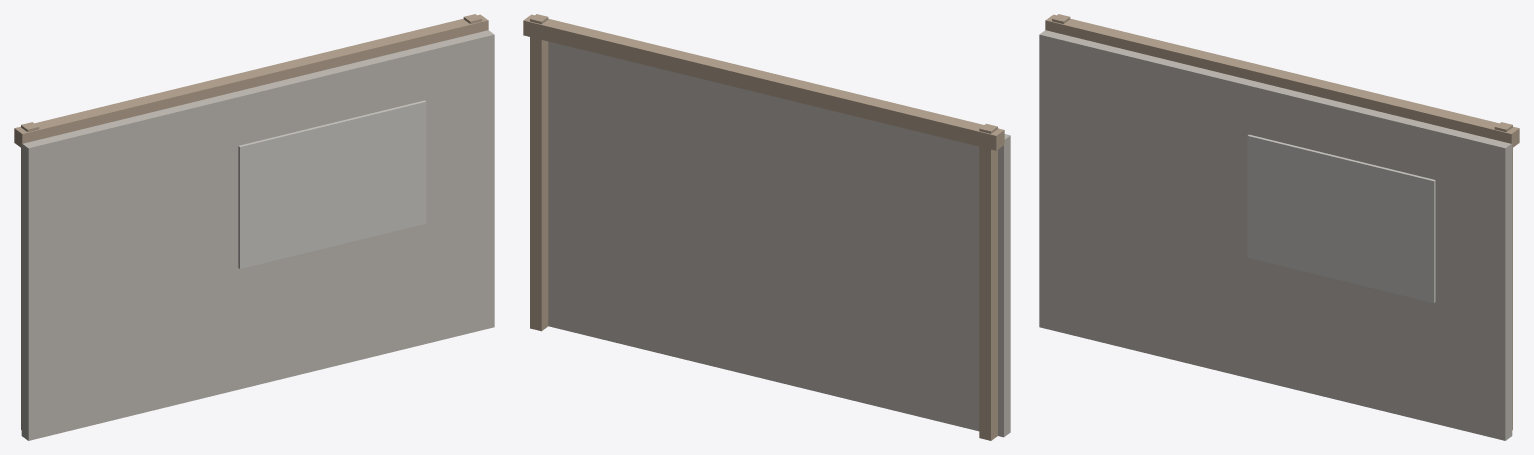
File: hoarding.lod1.glb
3 views of the same model, side by side, from view 1: azimuth 30°, elevation 25°; view 2: azimuth 150°, elevation 25°; view 3: azimuth 330°, elevation 25° (orthographic).
Visible parts, largest first — view 1: props_hoarding; view 2: props_hoarding; view 3: props_hoarding.
Boxes of the visible parts, bbox=[...] form: props_hoarding: bbox=[14, 14, 494, 440]; props_hoarding: bbox=[523, 14, 1010, 440]; props_hoarding: bbox=[1039, 14, 1519, 440].
Size of the model in its own units: 4 by 2.5 by 0.2349.
